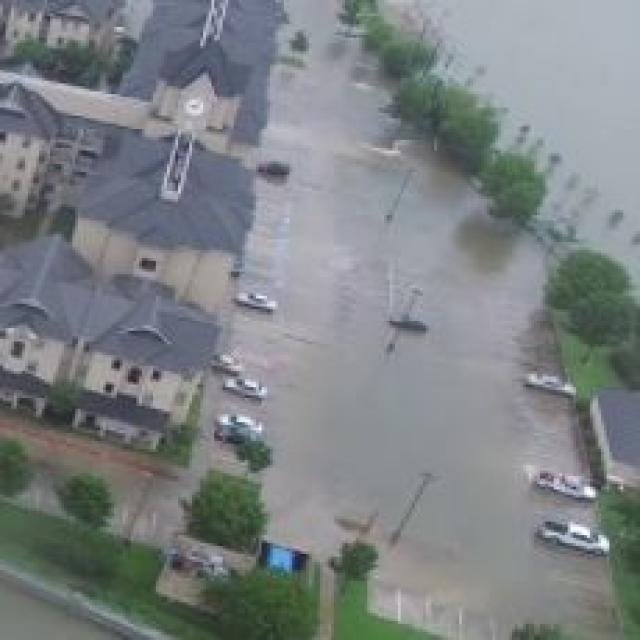flooded_areas: (117, 6, 620, 578)
